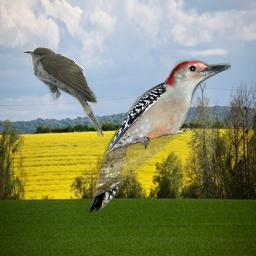Cuckoo: (24, 47, 104, 138)
Woodpecker: (88, 59, 231, 215)
